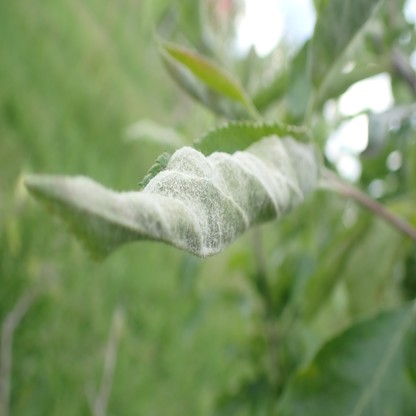powder: (23, 134, 328, 258)
